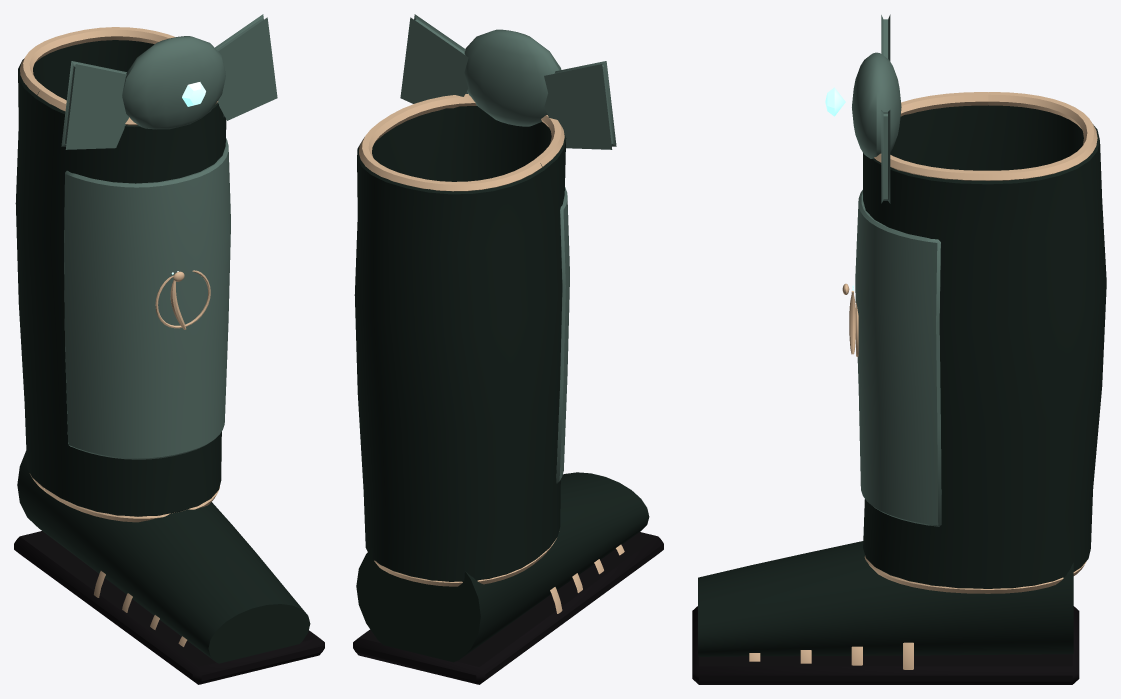
Rendered from asc_ouroboros_fang_boots_R.glb.
3 views of the same model, side by side, from view 1: azimuth 30°, elevation 25°; view 2: azimuth 150°, elevation 25°; view 3: azimuth 270°, elevation 25° (orthographic). The views are drawn at different scales.
Parts seen in each view (by area): view 1: asc_ouroboros_fang_boots, AT_foot_R; view 2: asc_ouroboros_fang_boots, AT_foot_R; view 3: asc_ouroboros_fang_boots, AT_foot_R.
Part boxes in pixels (<box>): asc_ouroboros_fang_boots: <box>15,14,277,522</box>; AT_foot_R: <box>14,451,324,684</box>; asc_ouroboros_fang_boots: <box>354,14,616,586</box>; AT_foot_R: <box>353,472,663,684</box>; asc_ouroboros_fang_boots: <box>825,14,1106,593</box>; AT_foot_R: <box>692,541,1079,684</box>.
Size of the model in its own units: 0.2244 by 0.5768 by 0.3641.
